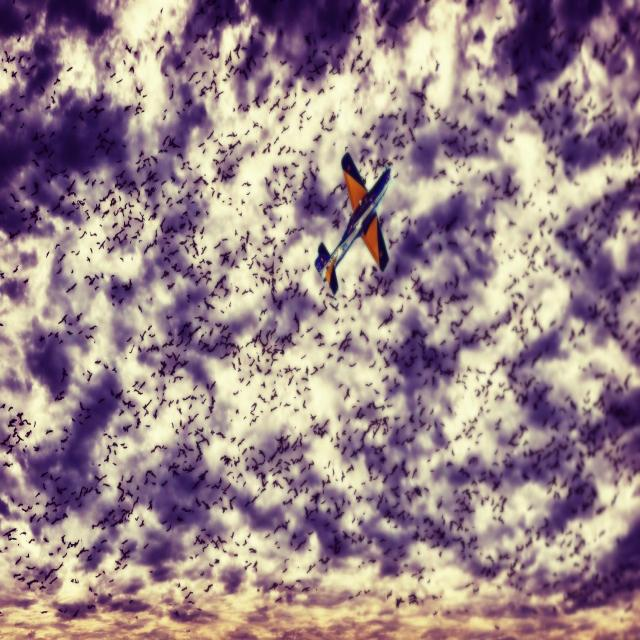airplane: (314, 151, 391, 295)
